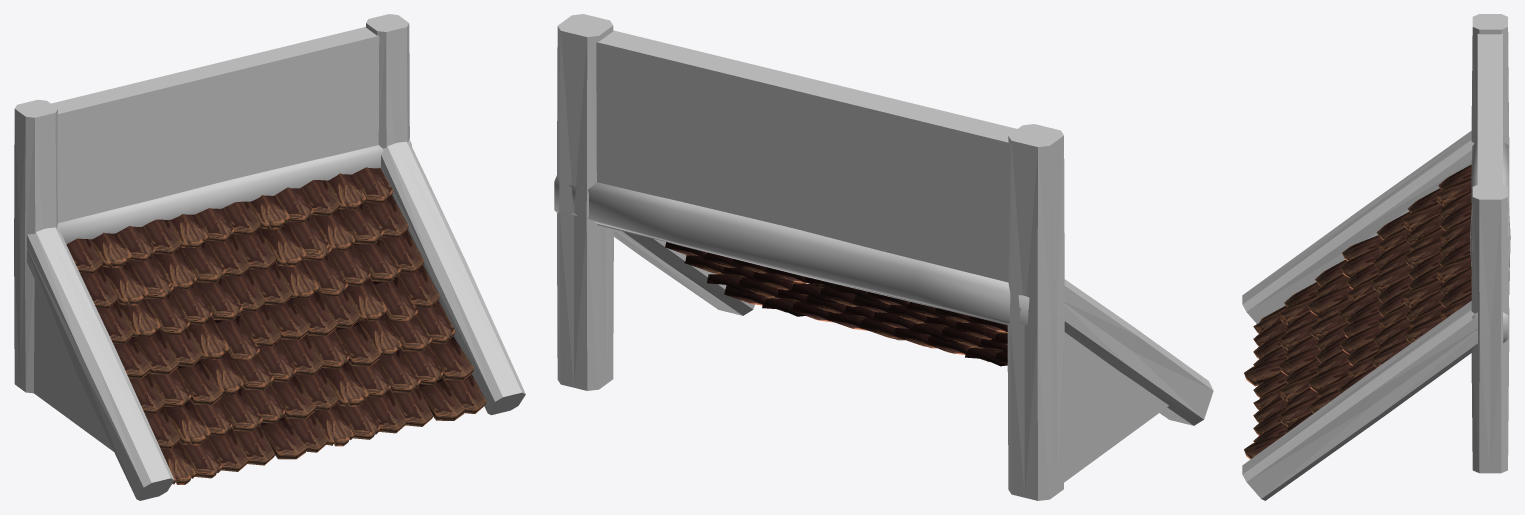
File: VV-RoofTile10.fbx
3 renders of one model, left to right at view 1: azimuth 30°, elevation 25°; view 2: azimuth 150°, elevation 25°; view 3: azimuth 270°, elevation 25°, orthographic. The views are drawn at different scales.
Visible parts, largest first — view 1: RoofTile.10; view 2: RoofTile.10; view 3: RoofTile.10.
Part boxes in pixels (box(x1,y1,x2,y2)): RoofTile.10: box(14, 14, 525, 500); RoofTile.10: box(554, 14, 1213, 500); RoofTile.10: box(1242, 14, 1510, 500).
Size of the model in its own units: 4.38 by 3.34 by 2.67.
